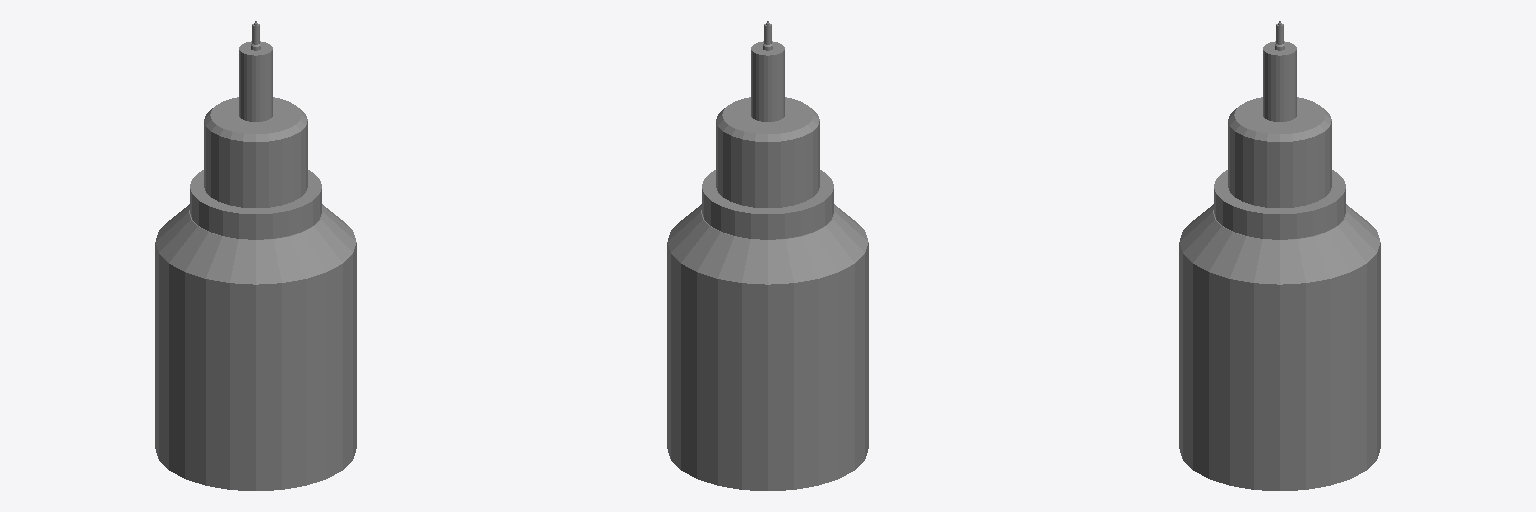
URDF robot description (miro):
<?xml version="1.0"?>
<robot name="miro">
  <link name="world">
	</link>
  <joint name="base_joint" type="fixed">
    <origin xyz="0 0 0" rpy="0 0 0"/>
    <parent link="world"/>
    <child link="base"/>
    <axis xyz="0 0 1"/>
  </joint>
  <link name="base">
    <visual>
      <geometry>
        <mesh filename="base.obj"/>
      </geometry>
    </visual>
  </link>
  <joint name="link1_joint" type="revolute">
    <origin xyz="0.0010 0 0.1845" rpy="0 0 0"/>
    <parent link="base"/>
    <child link="link1"/>
    <axis xyz="0 0 1"/>
     <limit effort="30" velocity="1.0" lower="-2.618" upper="2.618" />
  </joint>
  <link name="link1">
    <visual>
      <geometry>
        <mesh filename="link1.obj"/>
      </geometry>
    </visual>
  </link>
  <joint name="link2_joint" type="revolute">
    <origin xyz="0 0 0" rpy="0 -1.5707963267948966 -1.5707963267948966"/>
    <parent link="link1"/>
    <child link="link2"/>
    <axis xyz="0 0 1"/>
     <limit effort="30" velocity="1.0" lower="-0.7156" upper="0.7156" />
  </joint>
  <link name="link2">
    <visual>
      <geometry>
        <mesh filename="link2.obj"/>
      </geometry>
    </visual>
  </link>
  <joint name="link3_joint" type="revolute">
    <origin xyz="0 0 0" rpy="1.5707963267948966 0 0"/>
    <parent link="link2"/>
    <child link="link3"/>
    <axis xyz="0 0 1"/>
     <limit effort="30" velocity="1.0" lower="-0.7156" upper="0.7156" />
  </joint>
  <link name="link3">
    <visual>
      <geometry>
        <mesh filename="link3.obj"/>
      </geometry>
    </visual>
  </link>
  <joint name="link4_joint" type="revolute">
    <origin xyz="0.310 0 0" rpy="-1.5707963267948966 1.5707963267948966 0"/>
    <parent link="link3"/>
    <child link="link4"/>
    <axis xyz="0 0 1"/>
     <limit effort="30" velocity="1.0" lower="-0.8203" upper="2.0420" />
  </joint>
  <link name="link4">
    <visual>
      <geometry>
        <mesh filename="link4.obj"/>
      </geometry>
    </visual>
  </link>
  <joint name="link5_joint" type="revolute">
    <origin xyz="0 -0.385000000000000 0" rpy="1.5707963267948966 0 0"/>
    <parent link="link4"/>
    <child link="link5"/>
    <axis xyz="0 0 1"/>
     <limit effort="30" velocity="1.0" lower="-2.8362" upper="2.8362" />
  </joint>
  <link name="link5">
    <visual>
      <geometry>
        <mesh filename="link5.obj"/>
      </geometry>
    </visual>
  </link>
  <joint name="link6_joint" type="revolute">
    <origin xyz="0 0 0" rpy="-1.57079632679490 0 0"/>
    <parent link="link5"/>
    <child link="link6"/>
    <axis xyz="0 0 1"/>
     <limit effort="30" velocity="1.0" lower="-6.5" upper="6.5" />
  </joint>
  <link name="link6">
    <visual>
      <geometry>
        <mesh filename="link6.obj"/>
      </geometry>
    </visual>
  </link>
  <!-- Drill Bit (replacing link7) -->
  <joint name="drill_bit_joint" type="revolute">
    <origin xyz="0 0 0" rpy="1.57079632679490 0 0"/>
    <parent link="link6"/>
    <child link="drill_bit"/>
    <axis xyz="0 0 1"/>
    <limit effort="30" velocity="1.0" lower="-2.8362" upper="2.8362" />
  </joint>
  <link name="drill_bit">
    <visual>
      <geometry>
        <mesh filename="welding_head.obj"/> 
      </geometry>
      <material name="metal">
        <color rgba="0.6 0.6 0.6 1"/>
      </material>
    </visual>
    <collision>
      <geometry>
        <mesh filename="welding_head.obj"/> 
      </geometry>
    </collision>
  </link>
</robot>


 

--- What the picture shows (computed from the rendered views, not written in the file) ---
Views: 3 orthographic renders of the robot side by side, from view 1: azimuth 30°, elevation 25°; view 2: azimuth 150°, elevation 25°; view 3: azimuth 270°, elevation 25°.
Model miro with 9 links and 8 joints (7 revolute, 1 fixed), rooted at world, posed all joints at 0.
Visible links, largest first — view 1: drill_bit; view 2: drill_bit; view 3: drill_bit.
Link boxes in pixels (<box>): drill_bit: <box>155,21,356,490</box>; drill_bit: <box>667,21,868,490</box>; drill_bit: <box>1179,21,1380,490</box>.
Bounding box of the posed robot: 0.053 × 0.053 × 0.1245 m (x, y, z).
Meshes: 8 distinct files referenced, 1 mesh visuals loaded (1 OBJ); not drawn: 7 (reference not matched to a file when rendering).